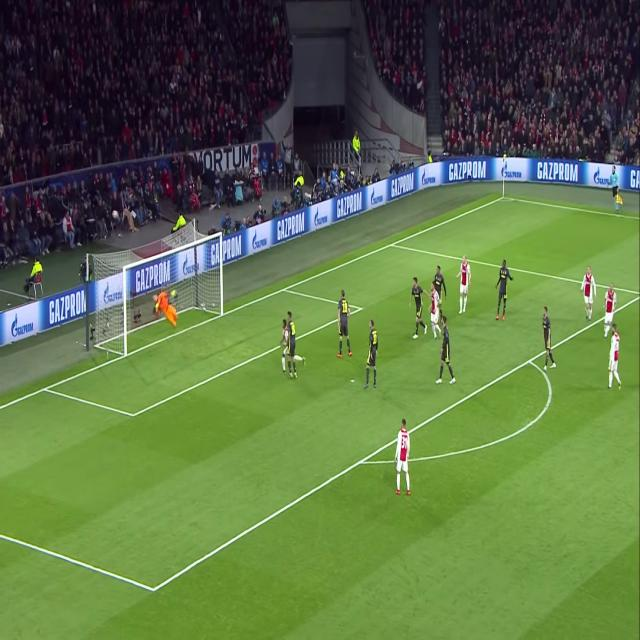Ball: (108, 208, 120, 222)
GoalKeeper: (154, 289, 178, 328)
TEAM 1: (335, 286, 356, 366), (363, 319, 379, 393), (438, 319, 456, 383), (497, 259, 513, 325), (410, 278, 426, 340), (542, 303, 554, 369), (288, 308, 298, 379), (430, 263, 448, 287)
TEAM 2: (394, 418, 411, 498), (606, 323, 622, 391), (458, 254, 471, 317), (582, 266, 596, 318), (429, 283, 439, 338), (606, 288, 617, 328), (281, 319, 289, 373)
